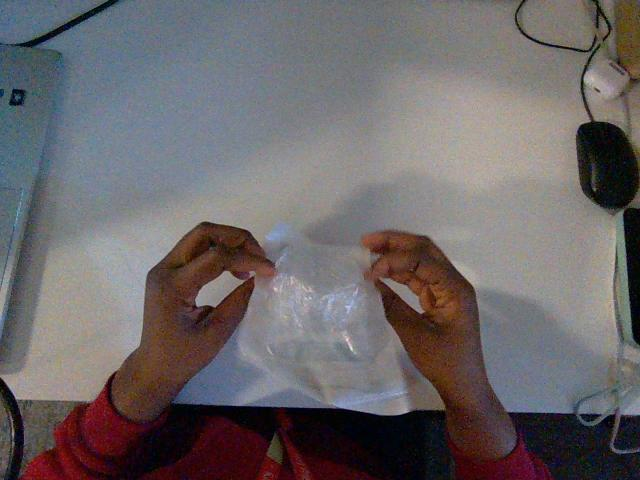gallipot: (238, 225, 405, 406)
